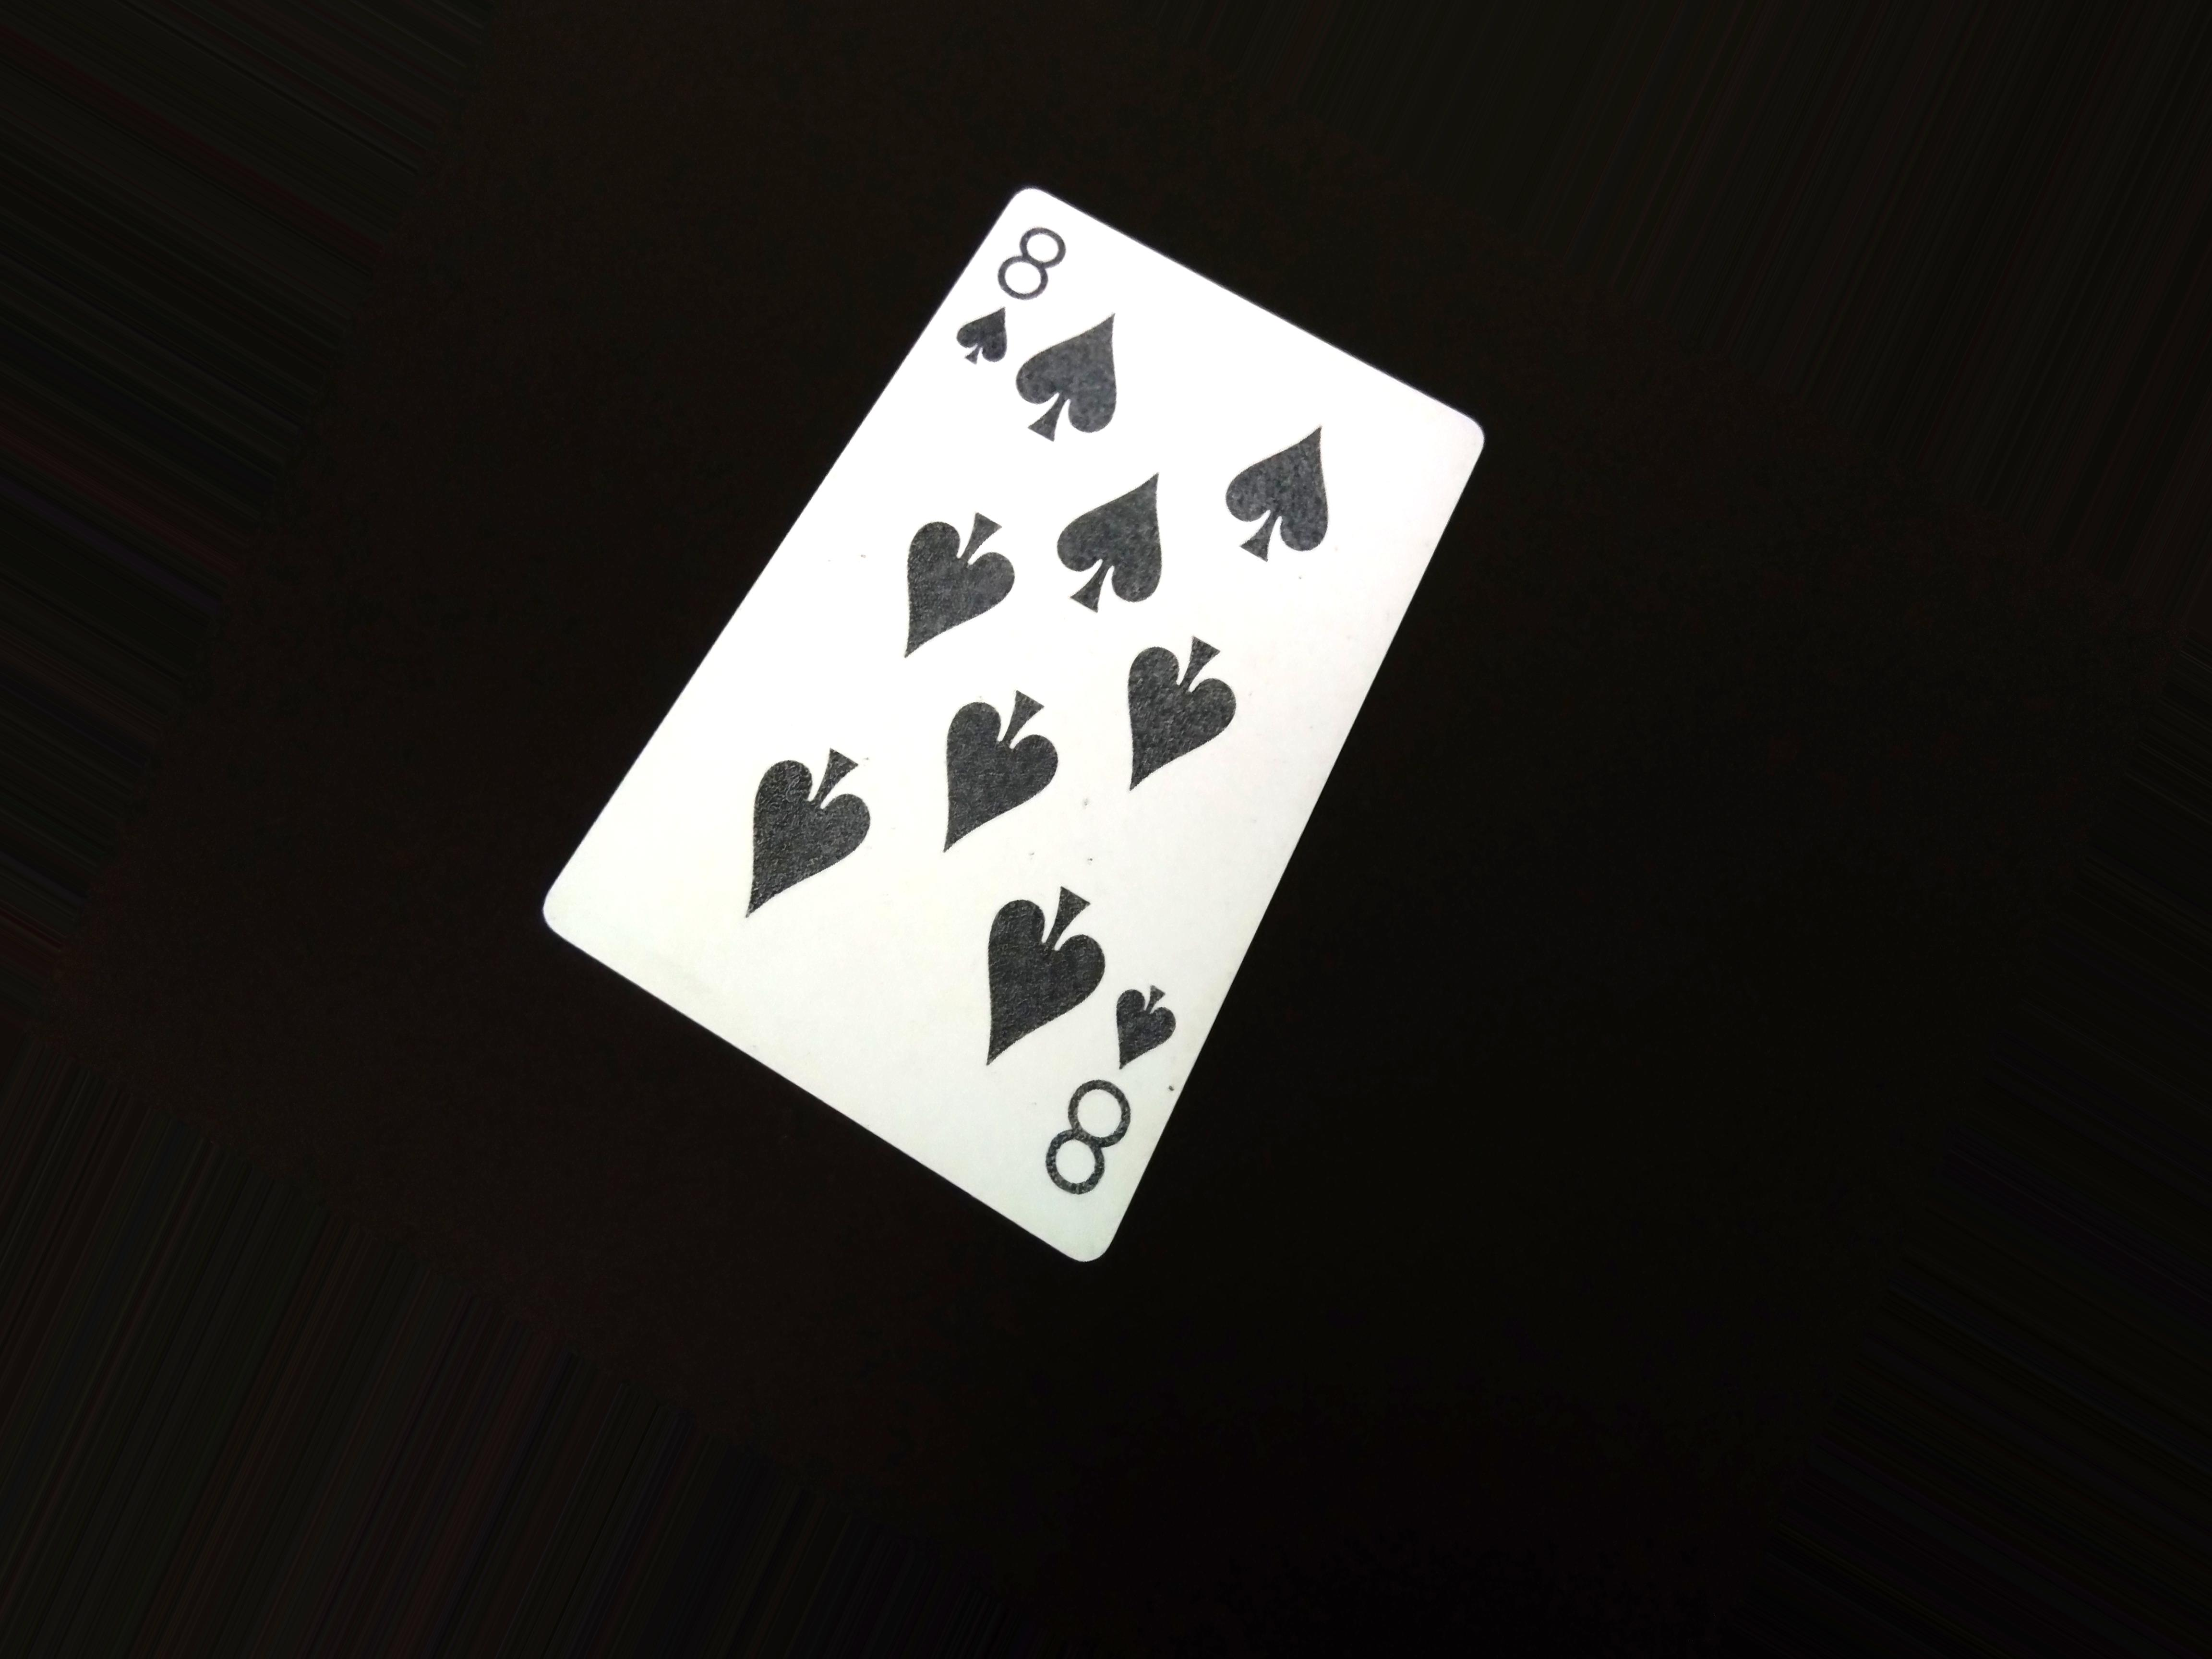8S: (925, 211, 1094, 397)
